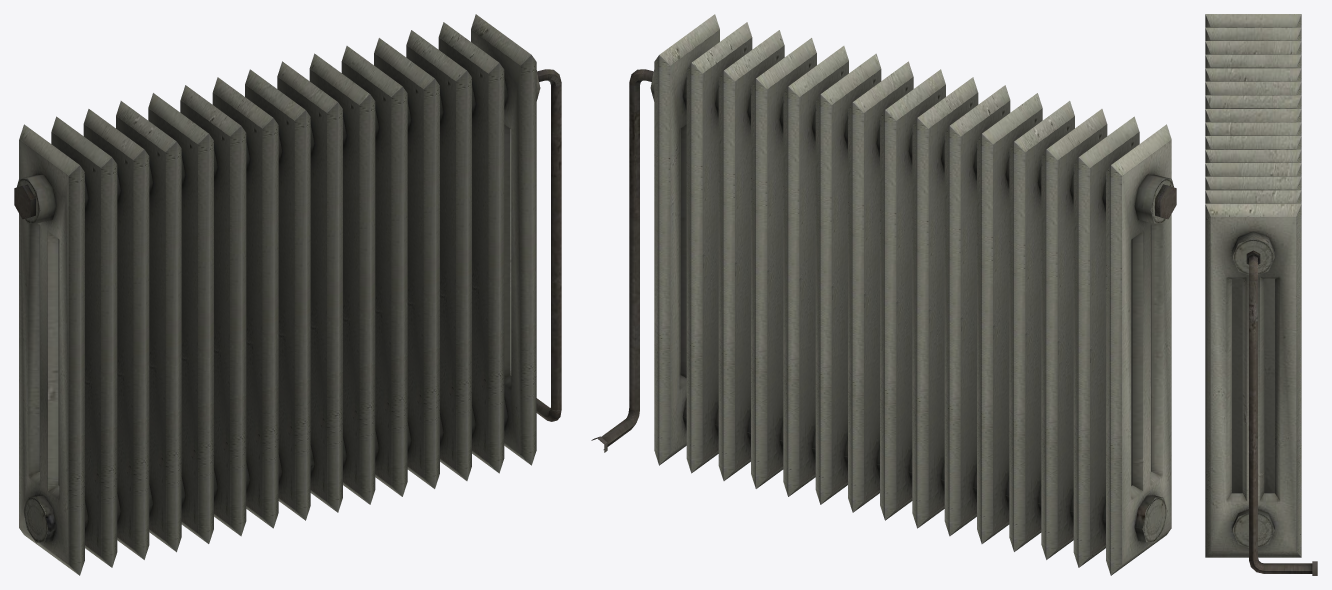
Rendered from si-heizkoerper.glb.
3 renders of one model, left to right at view 1: azimuth 30°, elevation 25°; view 2: azimuth 150°, elevation 25°; view 3: azimuth 270°, elevation 25°, orthographic. The views are drawn at different scales.
Parts seen in each view (by area): view 1: si-heizkoerper; view 2: si-heizkoerper; view 3: si-heizkoerper.
Part boxes in pixels (x1,y1,x2,y2): si-heizkoerper: [14, 14, 561, 575]; si-heizkoerper: [591, 14, 1176, 575]; si-heizkoerper: [1205, 14, 1317, 575].
Bounding box in the file's own units: 0.9577 × 0.6953 × 0.2.
Materials: 1 (1 with a texture image).
